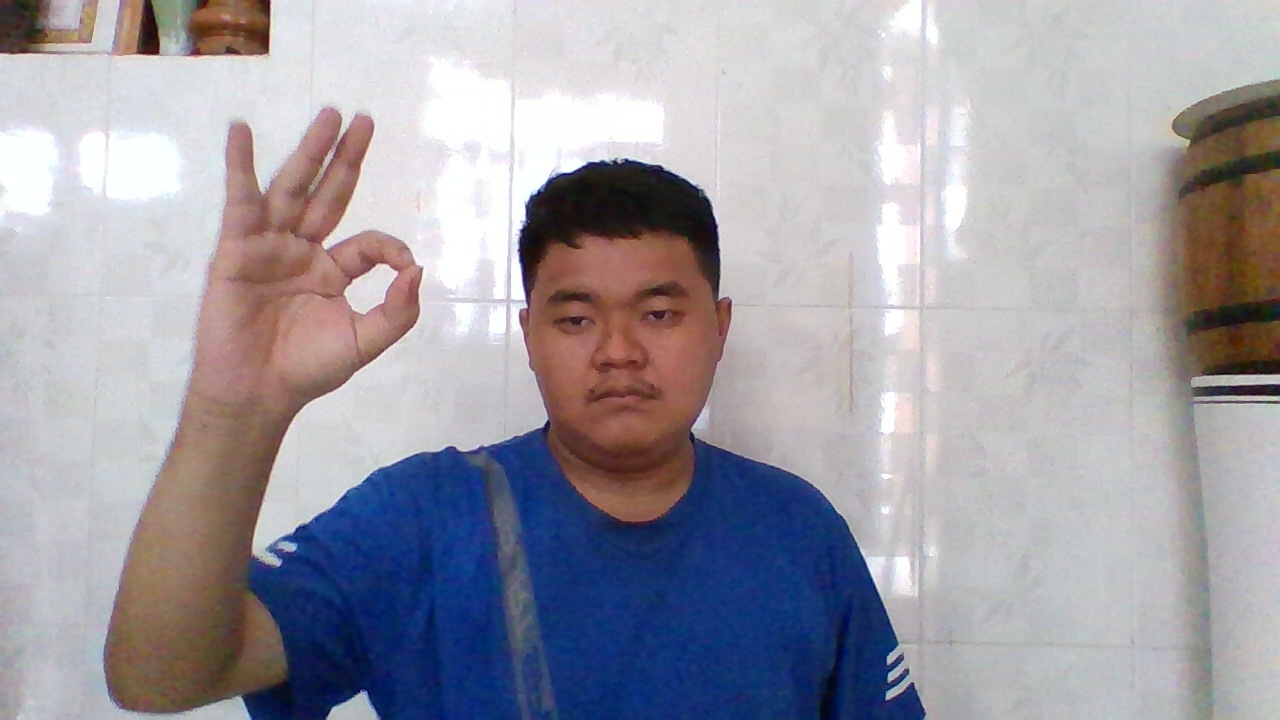T: (220, 105, 425, 411)
